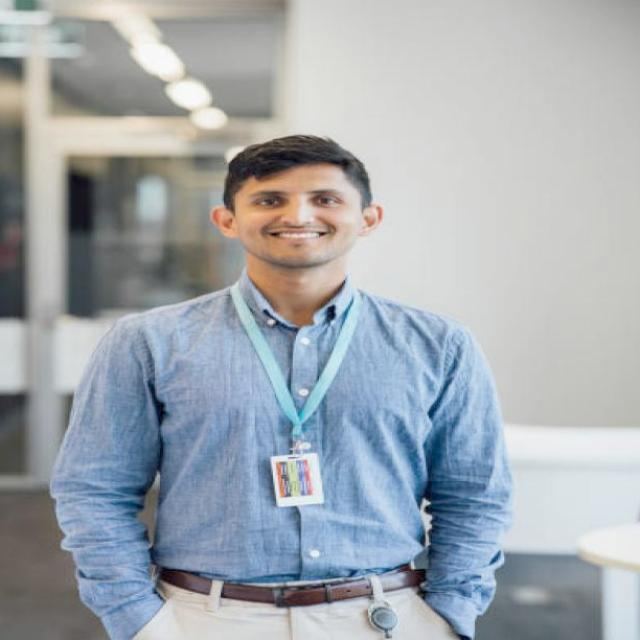ID_card: (242, 303, 346, 509)
